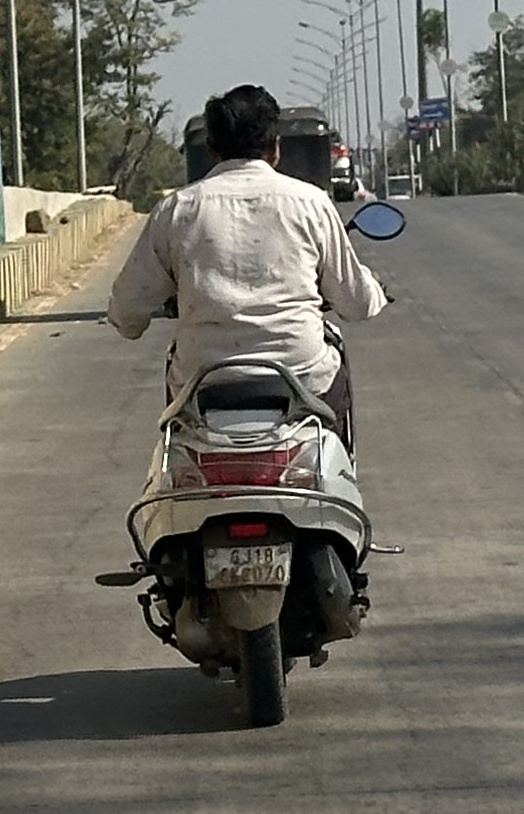BikeWithRider: (84, 73, 415, 738)
NoHelmet: (192, 76, 292, 180)
